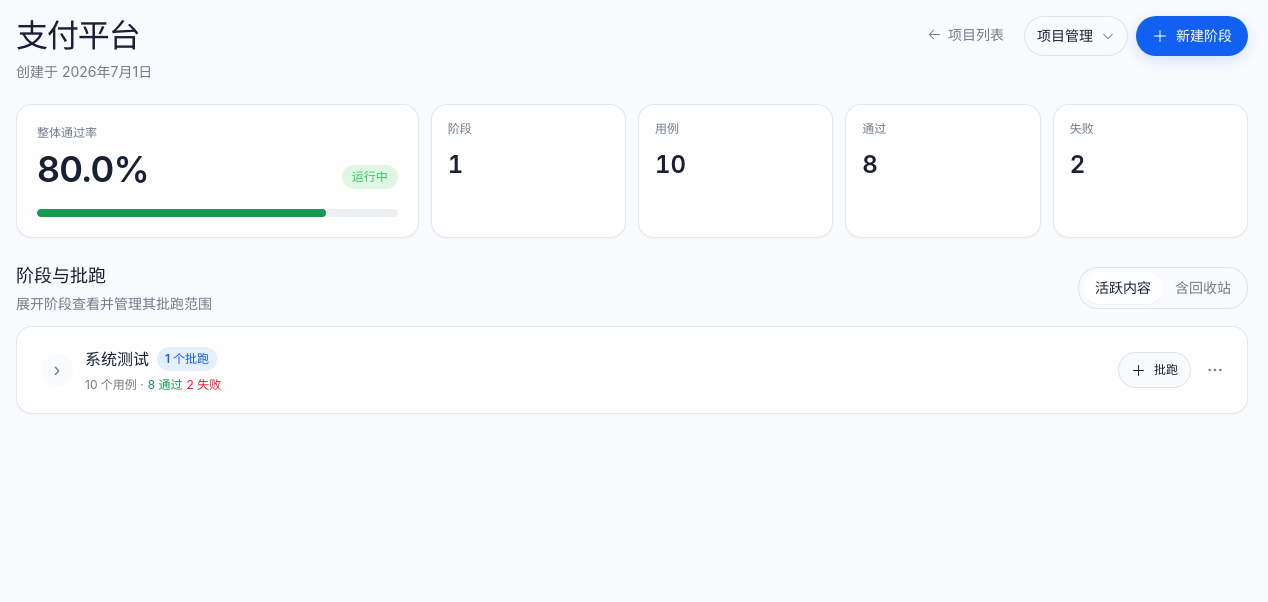
Test: ProjectDetailPage › renders overview and expands a stage to show batches for an editor
Expected: the heading "支付平台" is shown, [16,16,152,56]
Expected: the text "80.0%" is shown, [37,149,149,189]
Click the button with aria-label "展开系统测试". click: click(57, 370)
box: [33,339,1106,401]
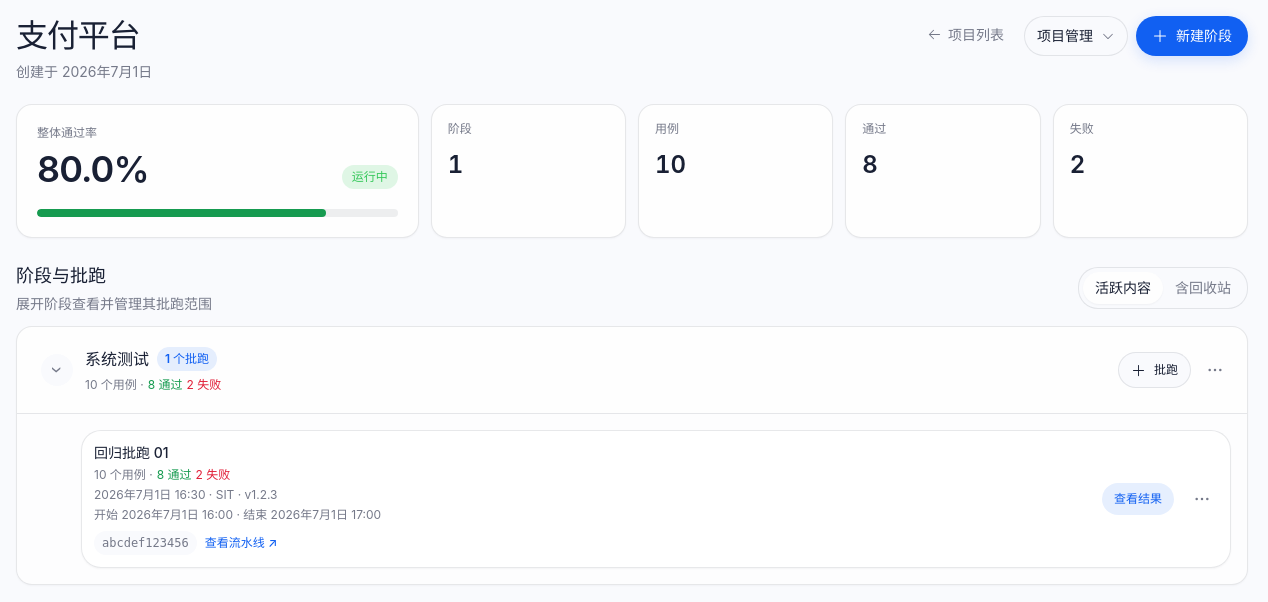
Result: the text "回归批跑 01" is shown at [94,443,169,463]
Result: the text "2026年7月1日 16:30 · SIT · v1.2.3" is shown at [94,487,278,502]
Result: the text "abcdef123456" is shown at [94,531,197,555]
